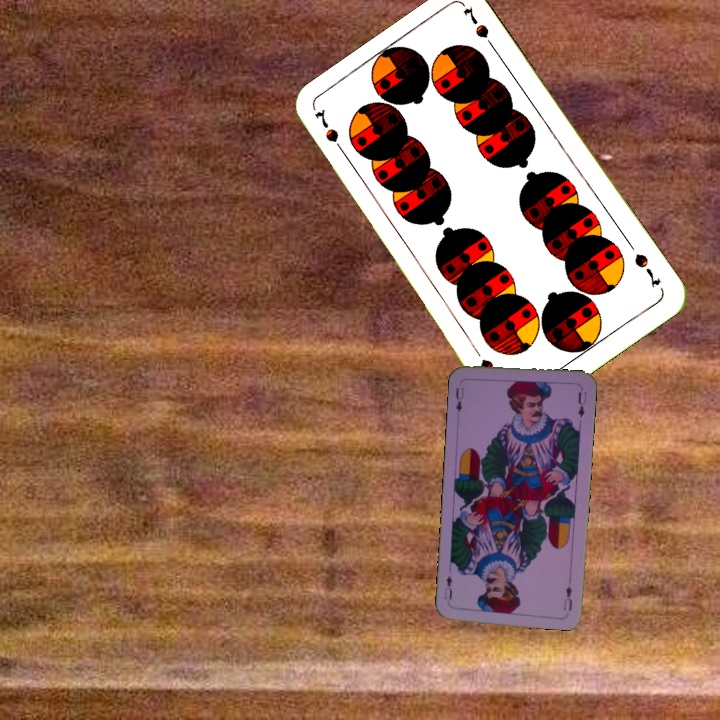EU: (559, 582, 575, 613), (452, 383, 466, 415)
S7: (310, 105, 350, 160), (630, 249, 663, 291)
